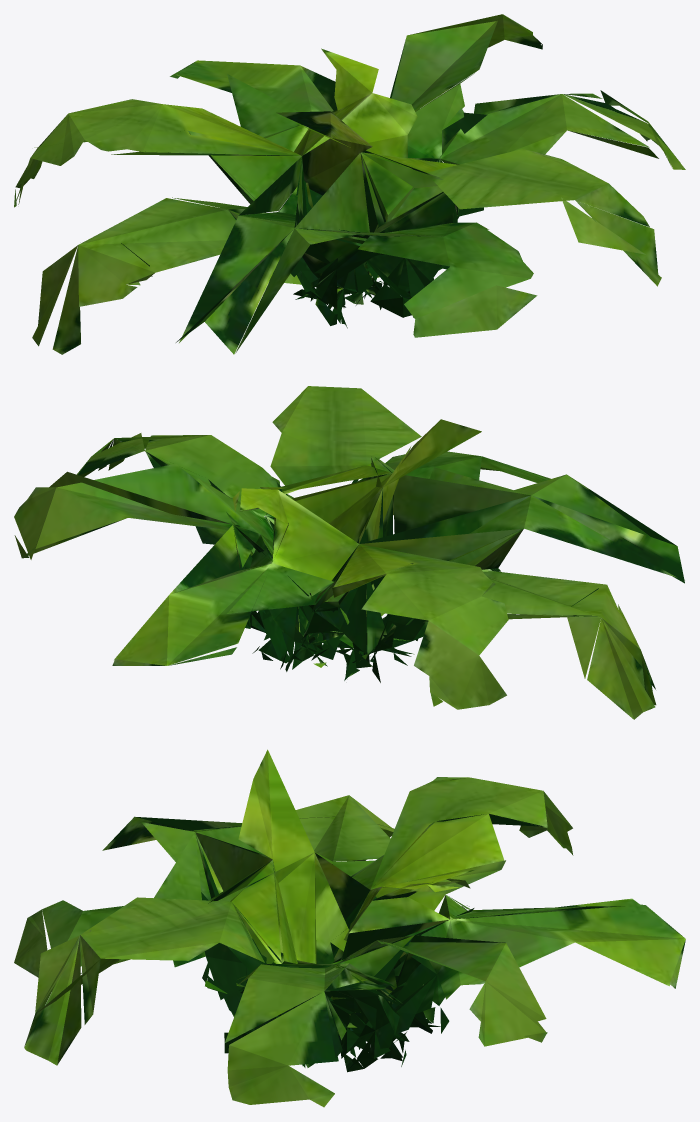
File: dino_fern_1116.glb
3 renders of one model, top to bottom at view 1: azimuth 30°, elevation 25°; view 2: azimuth 150°, elevation 25°; view 3: azimuth 270°, elevation 25°, orthographic. The views are drawn at different scales.
Parts seen in each view (by area): view 1: world; view 2: world; view 3: world.
Boxes of the visible parts, x1,y1,x2,y2 form: world: (14,14,685,354); world: (14,386,684,719); world: (14,749,685,1107).
Size of the model in its own units: 2.69 by 1 by 2.45.
Materials: 1 (1 with a texture image).
